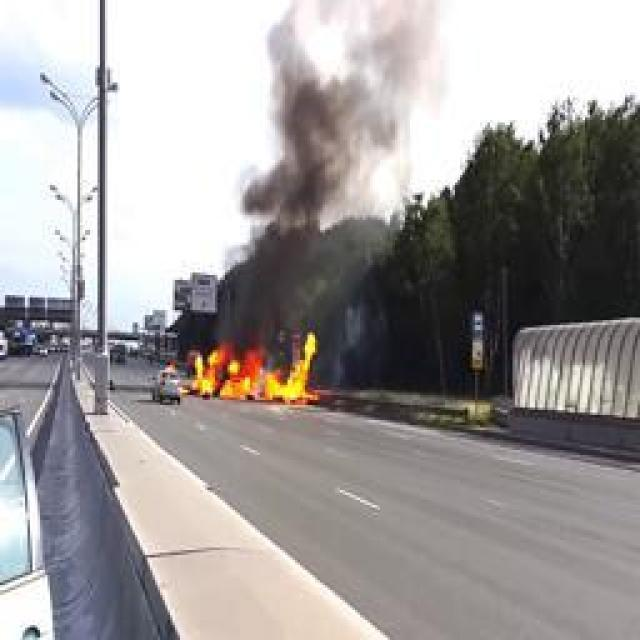Fire: (191, 328, 321, 406)
